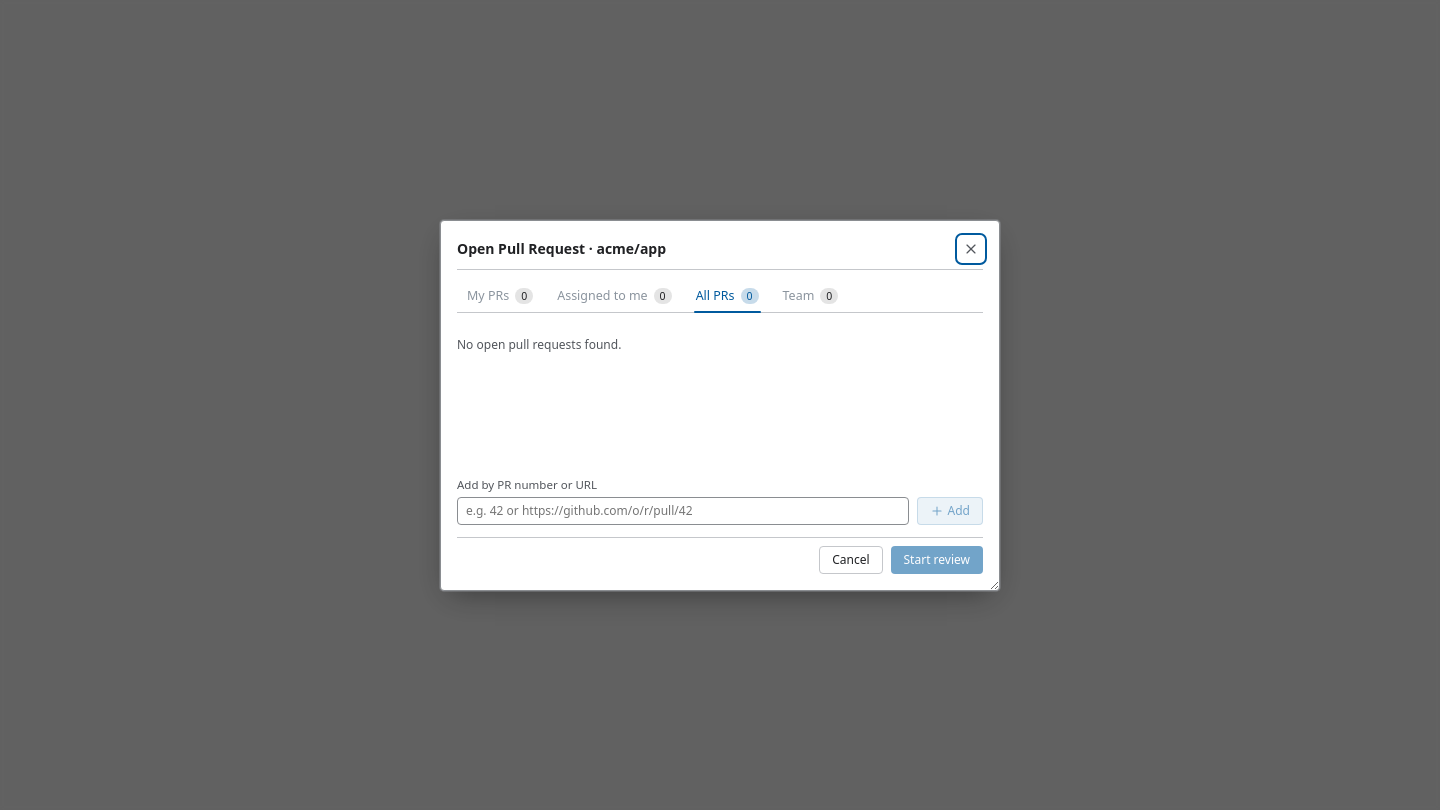
Scenario: PrReviewPicker selection › rejects arbitrary trailing digits that are not valid PR URLs
In the field labelled "Add by PR number or URL": (683, 510) [457,496,909,524], type "release-2026-09"
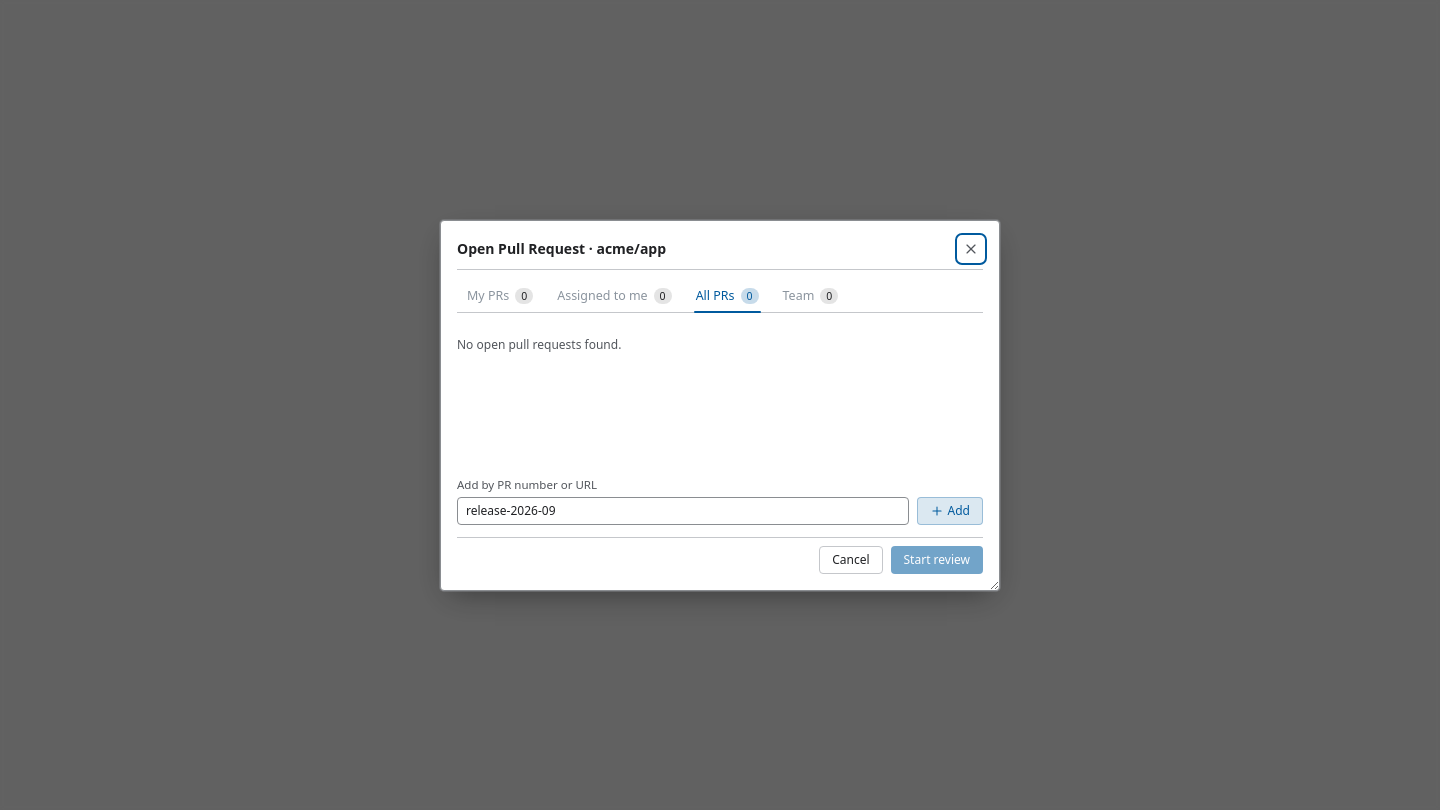
Click the button "Add": (950, 510) [917,496,983,524]
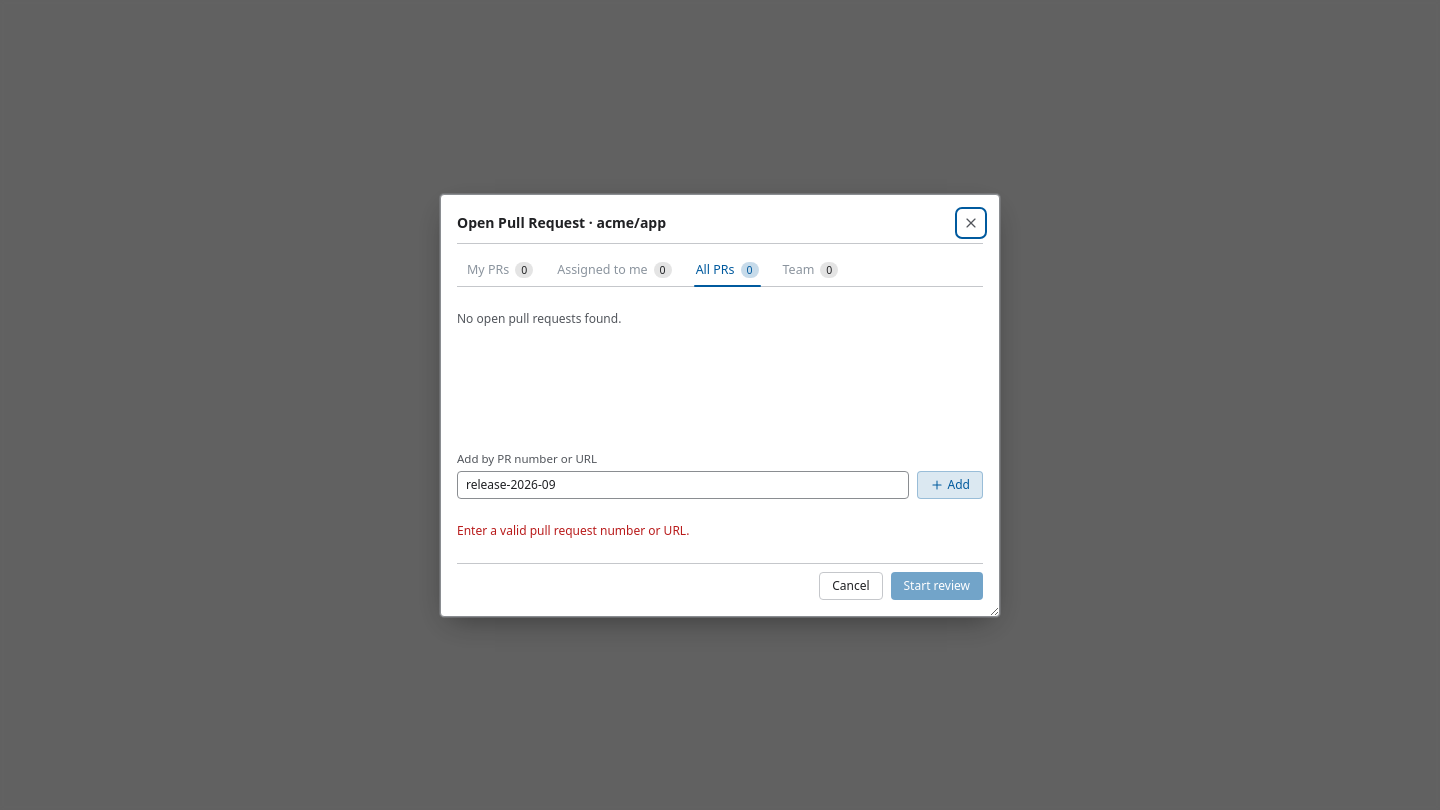
Now the text "Enter a valid pull request number or URL." is shown, box [457,522,689,538]
